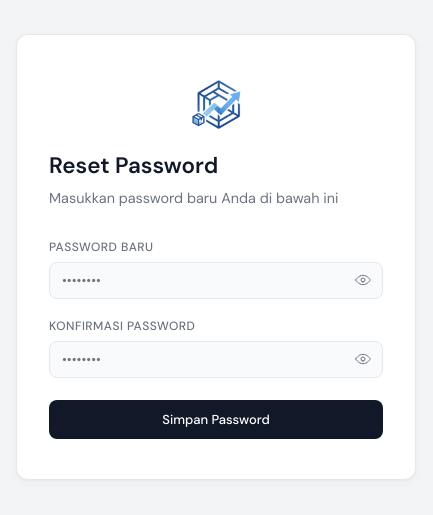
it: ResetPassword Page › c. konfirmasi beda -> complete TIDAK dipanggil
In the password field labelled "Password Baru": (216, 280) x1=49 y1=262 x2=383 y2=299, type "NewSecretPassword123"
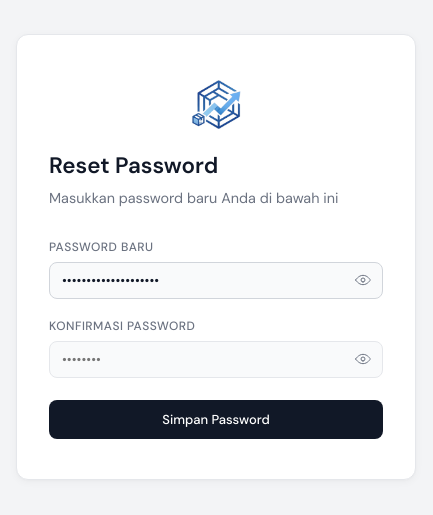
In the password field labelled "Konfirmasi Password": (216, 359) x1=49 y1=341 x2=383 y2=378, type "DifferentPassword123"
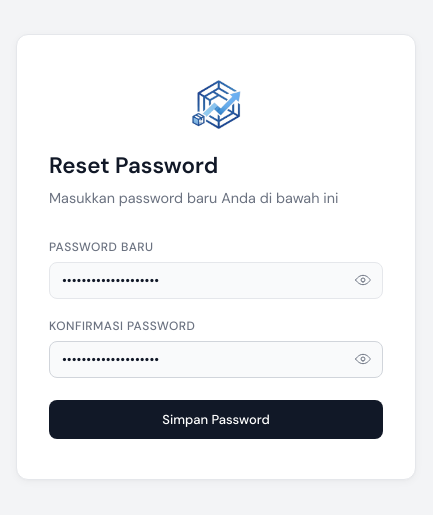
Click the button "Simpan Password": (216, 419) x1=49 y1=400 x2=383 y2=439
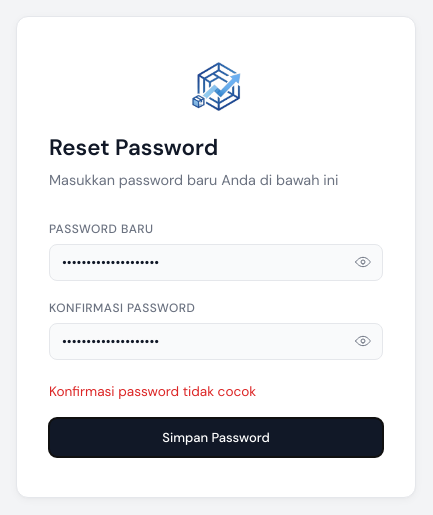
Check: the text "Konfirmasi password tidak cocok" is shown, box x1=49 y1=383 x2=256 y2=400
